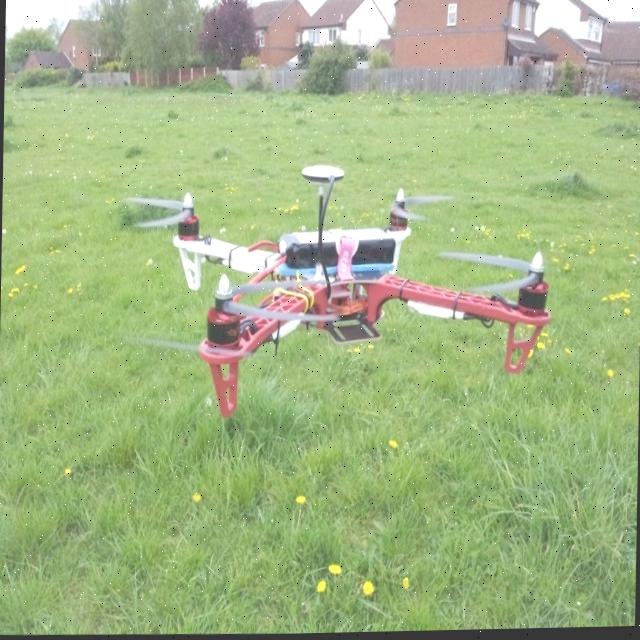drone: (104, 145, 598, 455)
